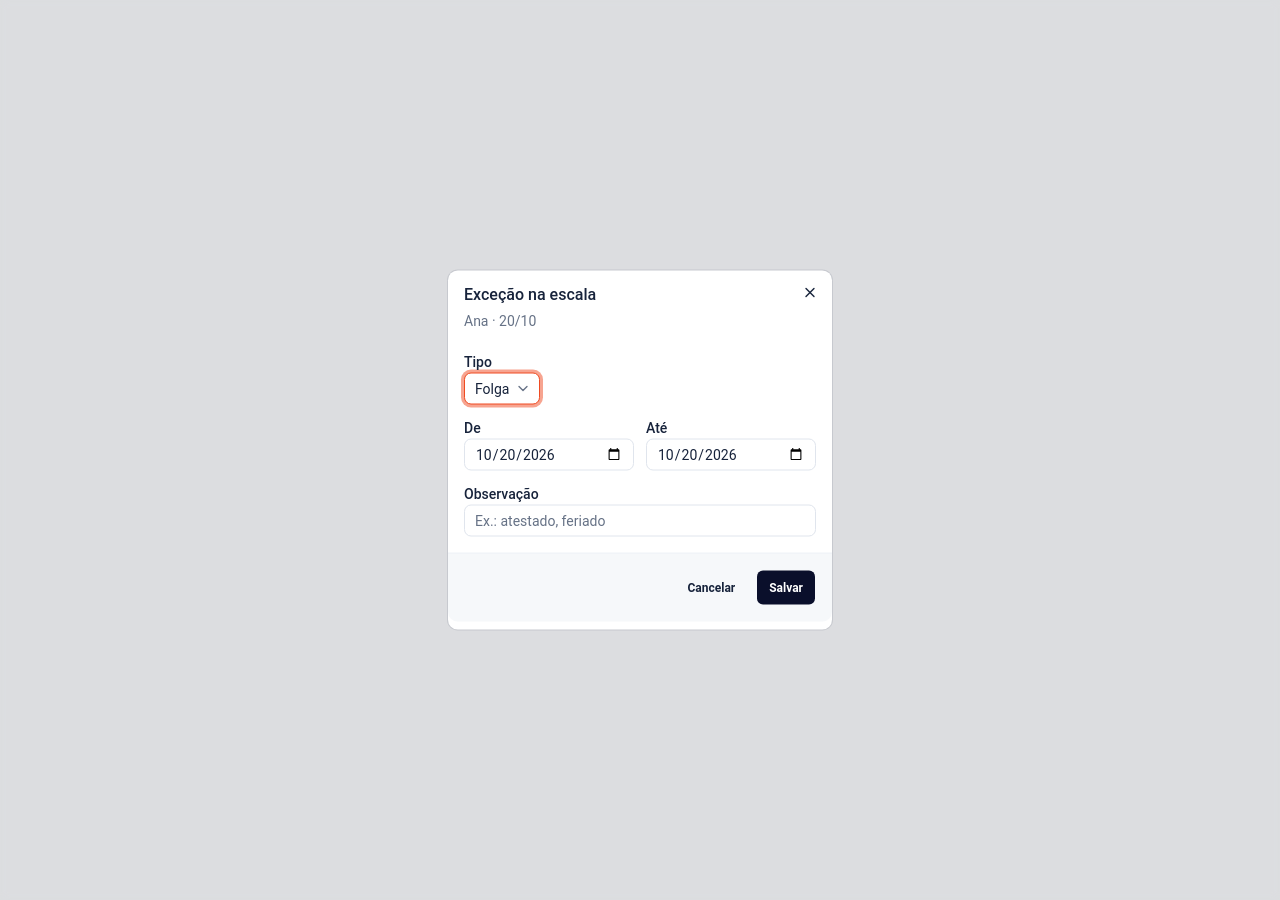
Test: ExceptionDialog: outro setor e período › período final antes do inicial não envia
Type "2026-10-19" into the date field labelled "Até" at x=731, y=454, box x1=646 y1=438 x2=816 y2=470
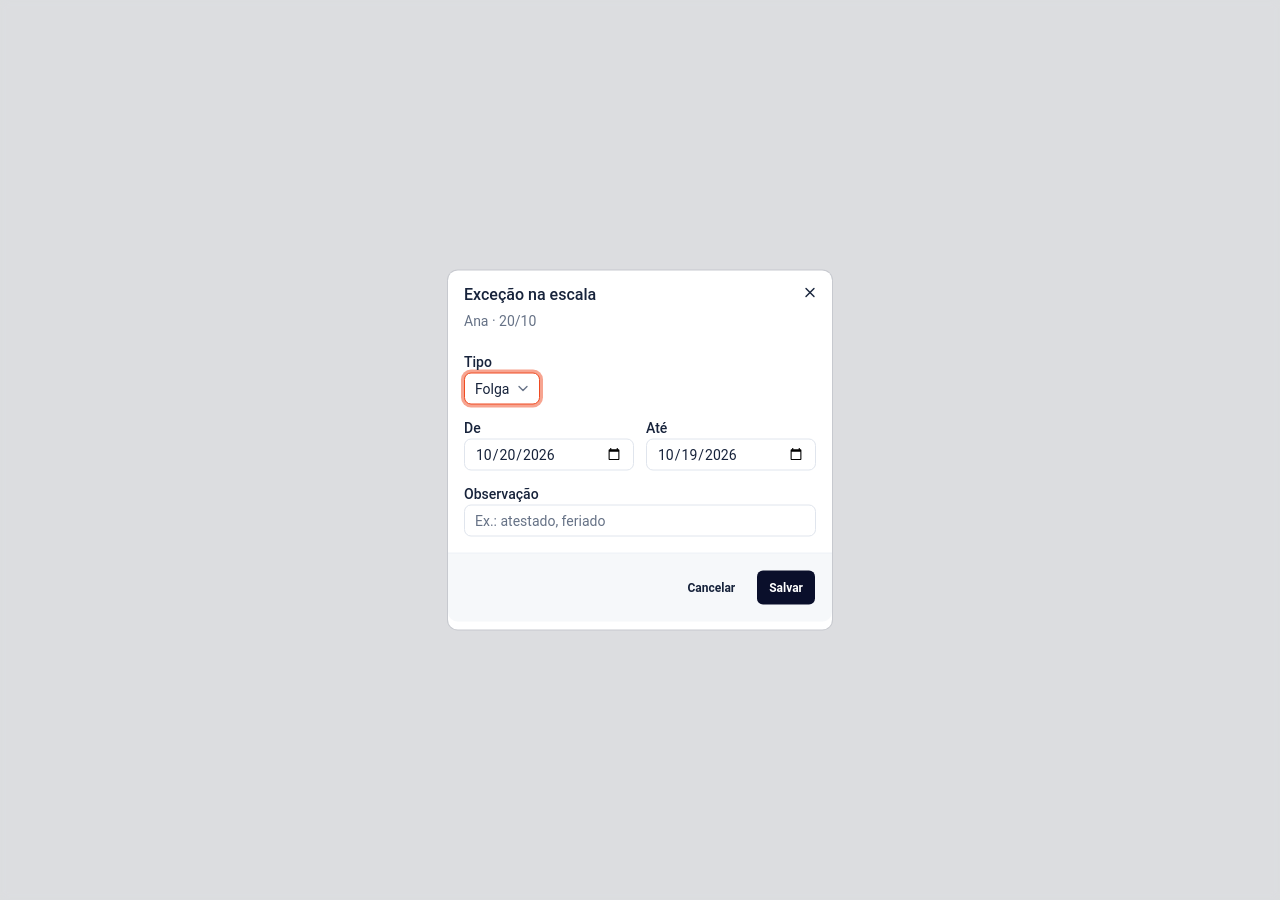
Click the button "Salvar" at x=786, y=588, box x1=756 y1=570 x2=816 y2=606
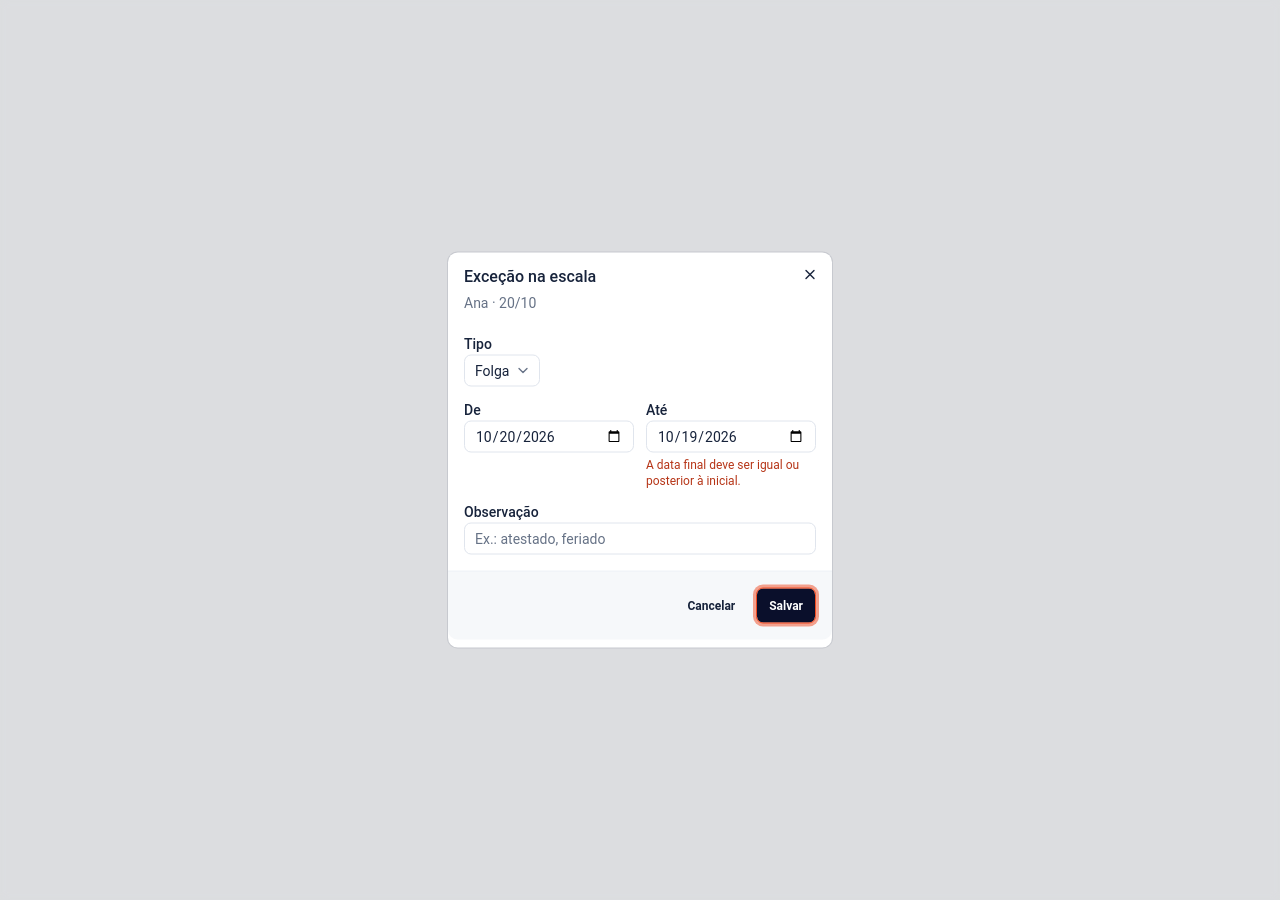
Expected: the text "A data final deve ser igual ou posterior à inicial." is shown, x1=646 y1=456 x2=816 y2=488
